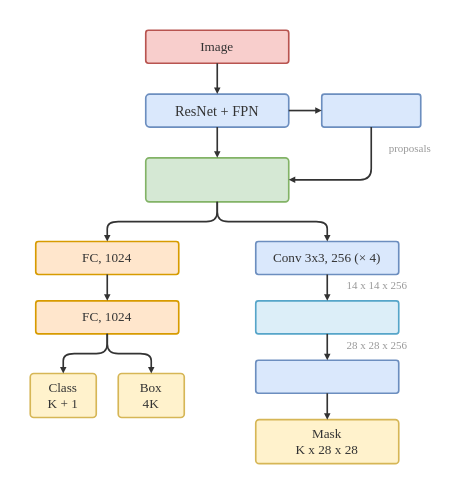
Some shapes in this 470 by 493 pixel diagram are drawn without their labels. Here are the shapes that lost their labels. From the top down, the centre of each, then its label:
the point at 370,110: RPN
the point at 216,179: RoIAlign (7 x 7 | 14 x 14)
the point at 326,317: Deconv 2x2, s2
the point at 326,376: Conv 1x1, K
